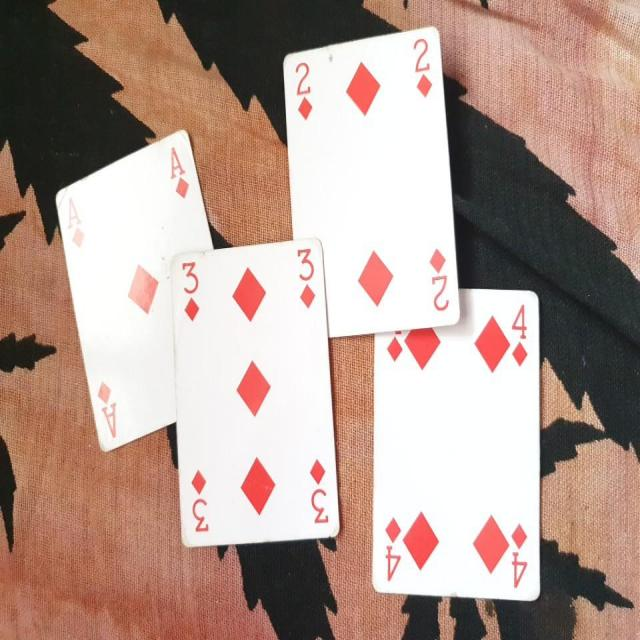2 Diamonds: (276, 26, 462, 341)
3 Diamonds: (169, 239, 342, 552)
4 Diamonds: (370, 287, 543, 602)
A Diamonds: (49, 117, 216, 466)
